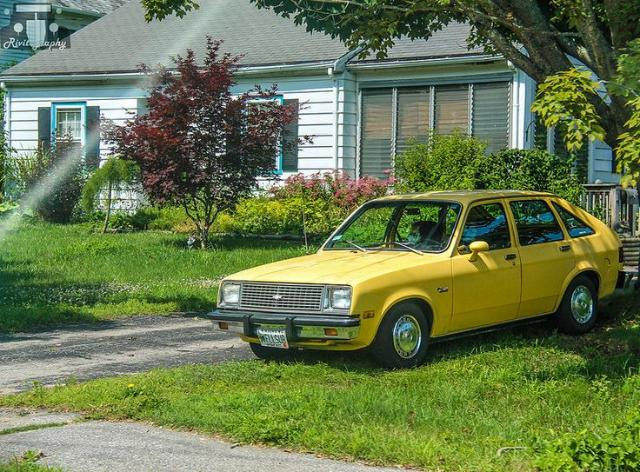chevette-1983: (207, 190, 626, 368)
